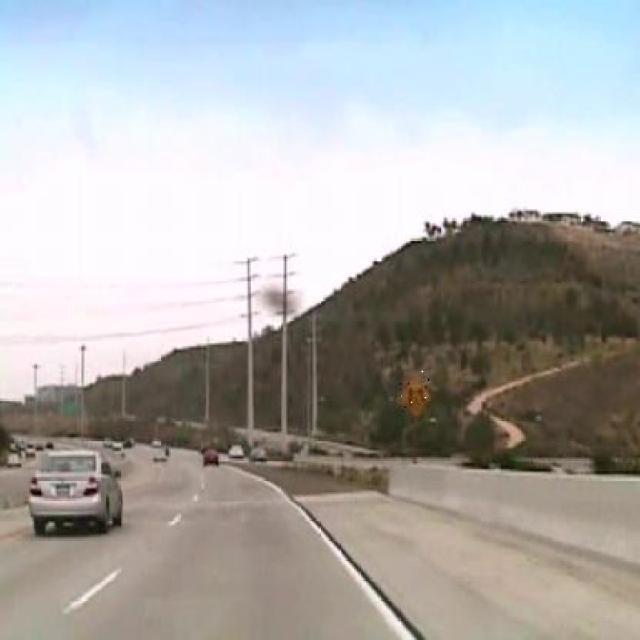addedLane: (397, 371, 431, 420)
